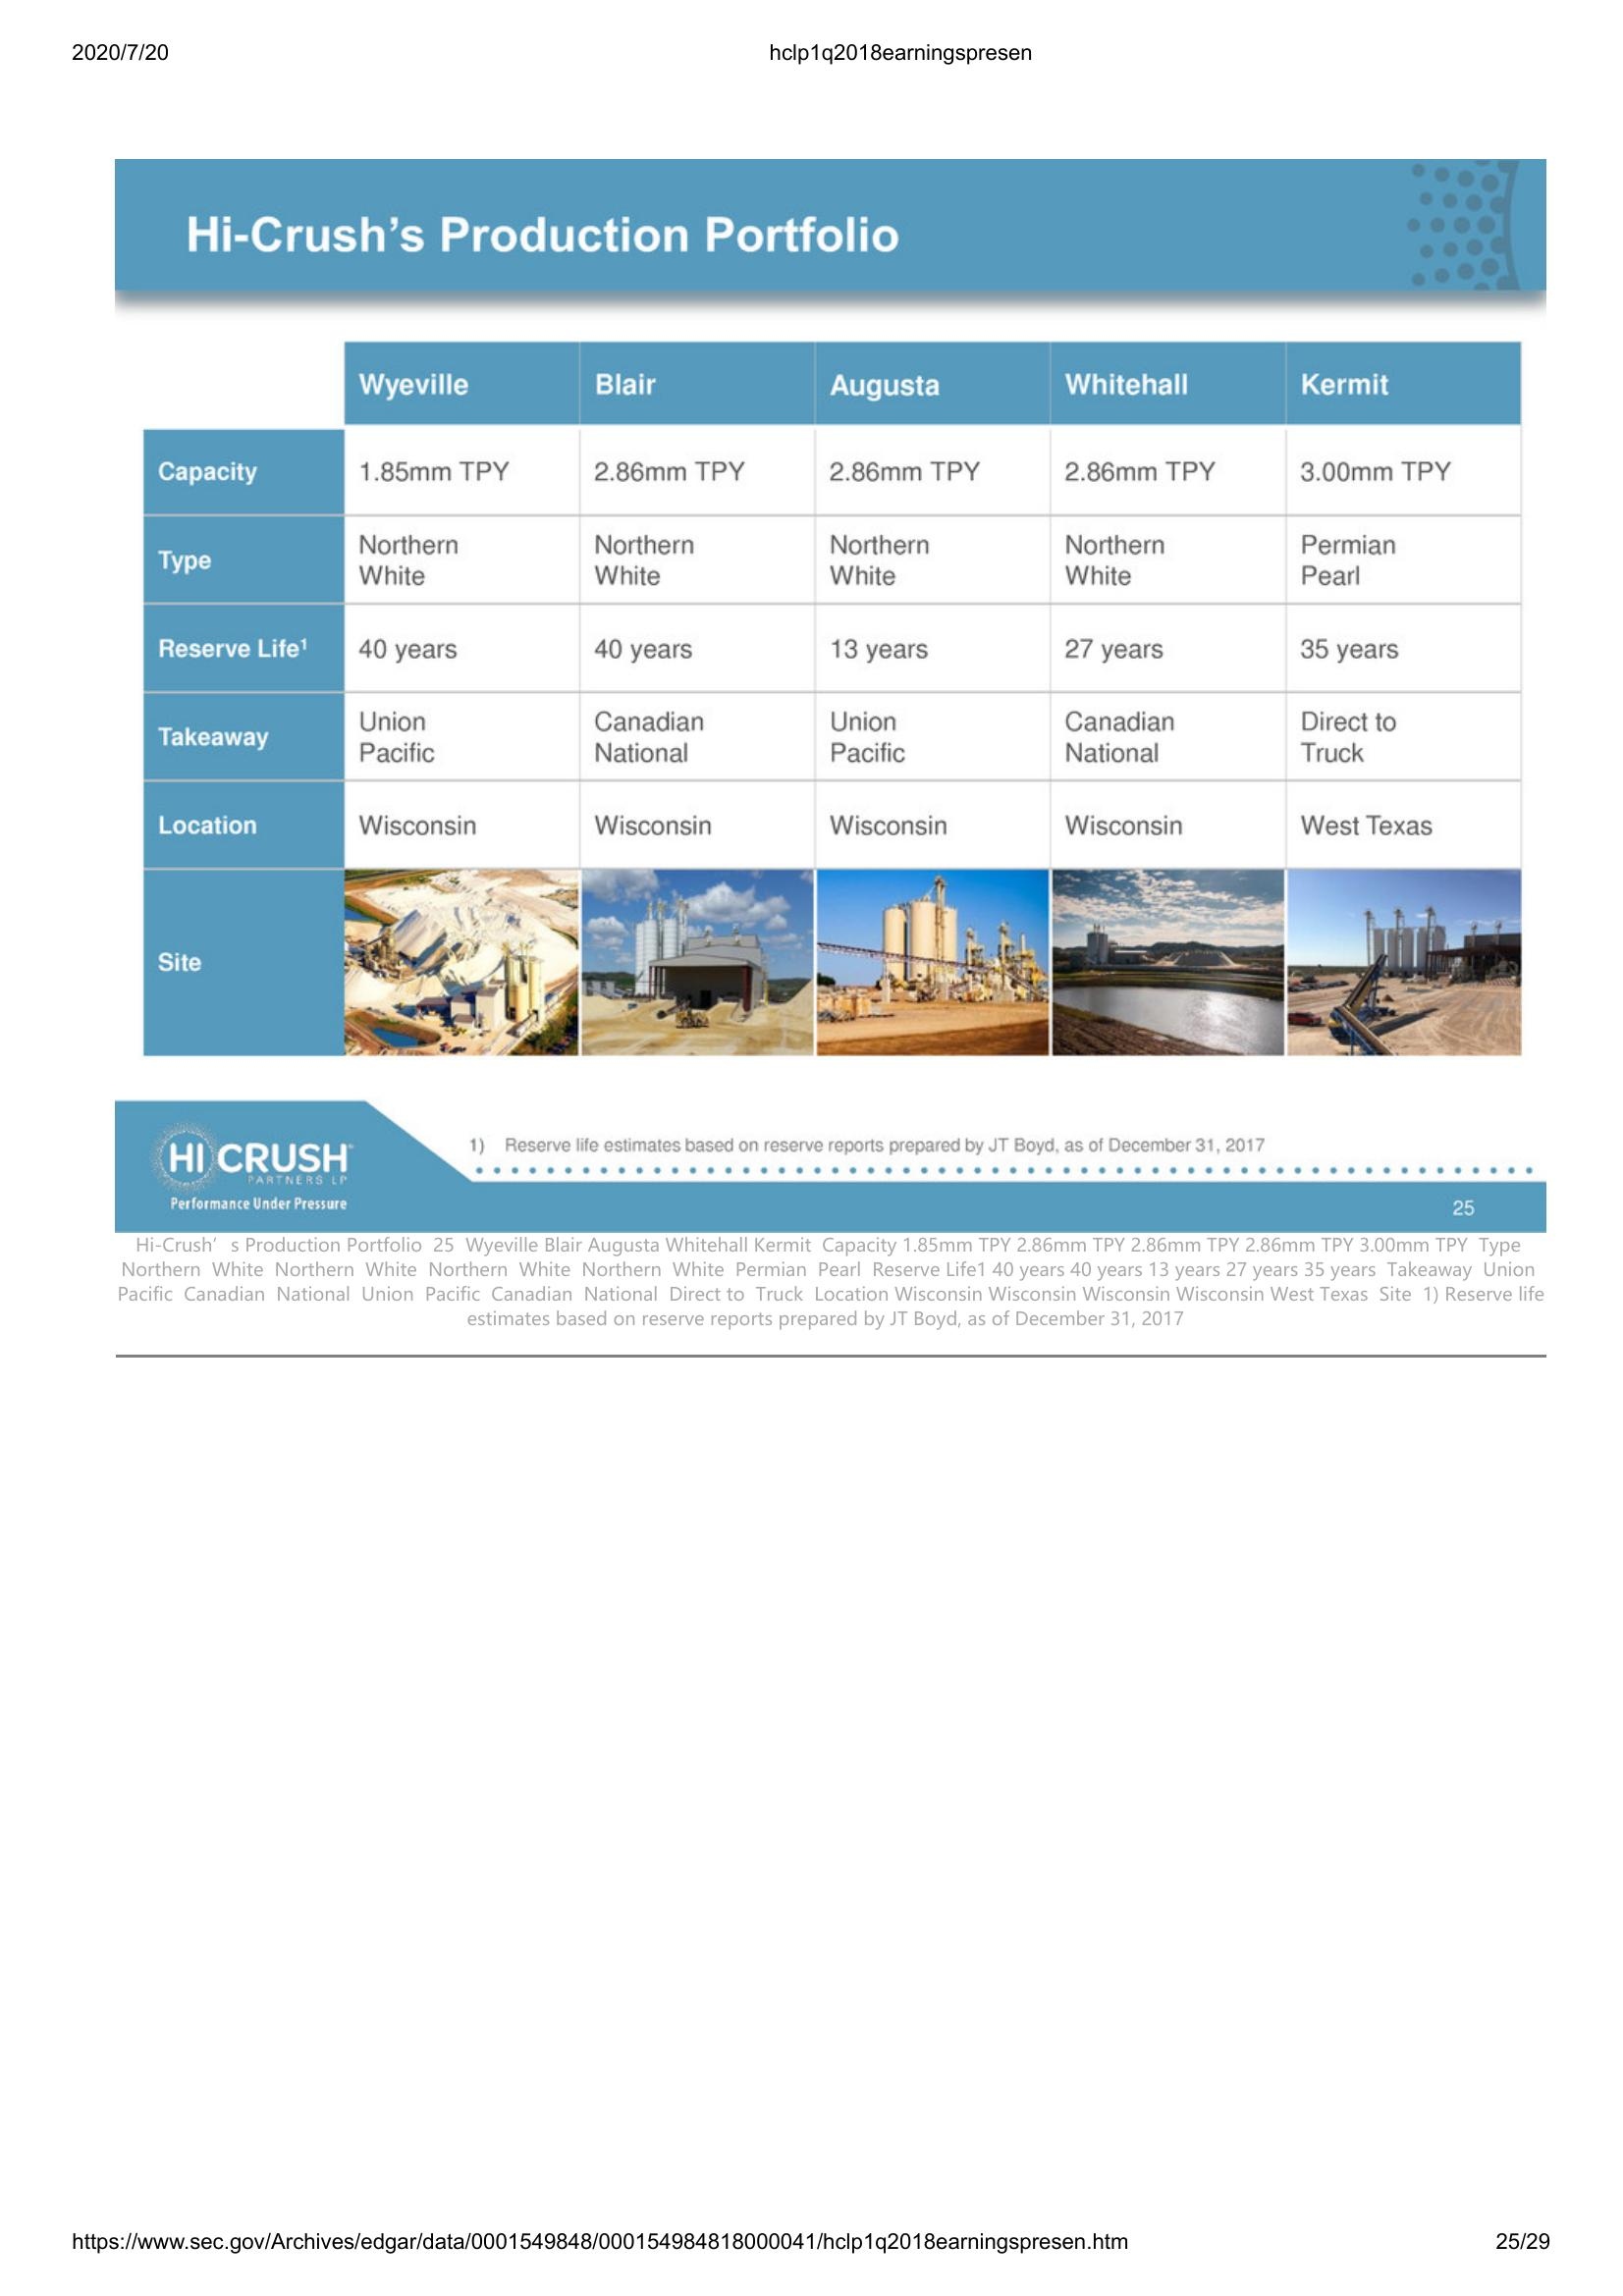table: (137, 335, 1528, 1065)
